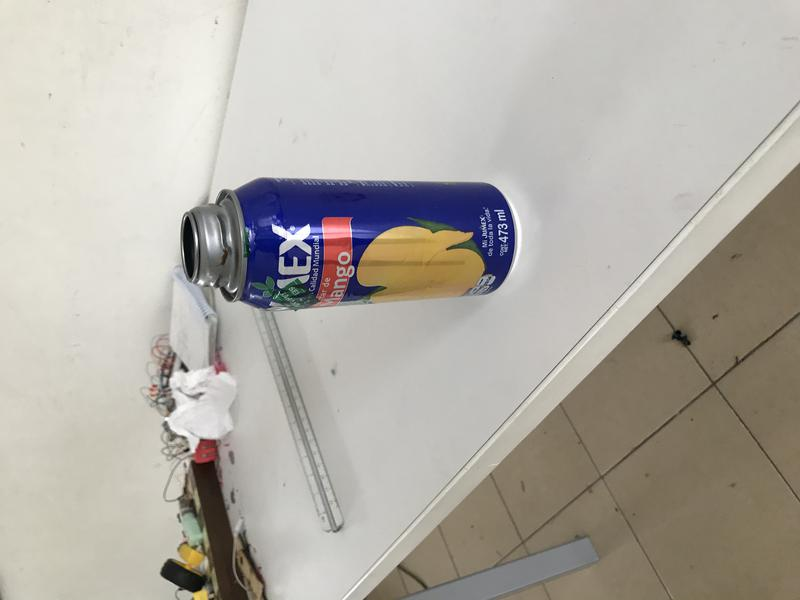jumex_botella: (179, 176, 520, 312)
